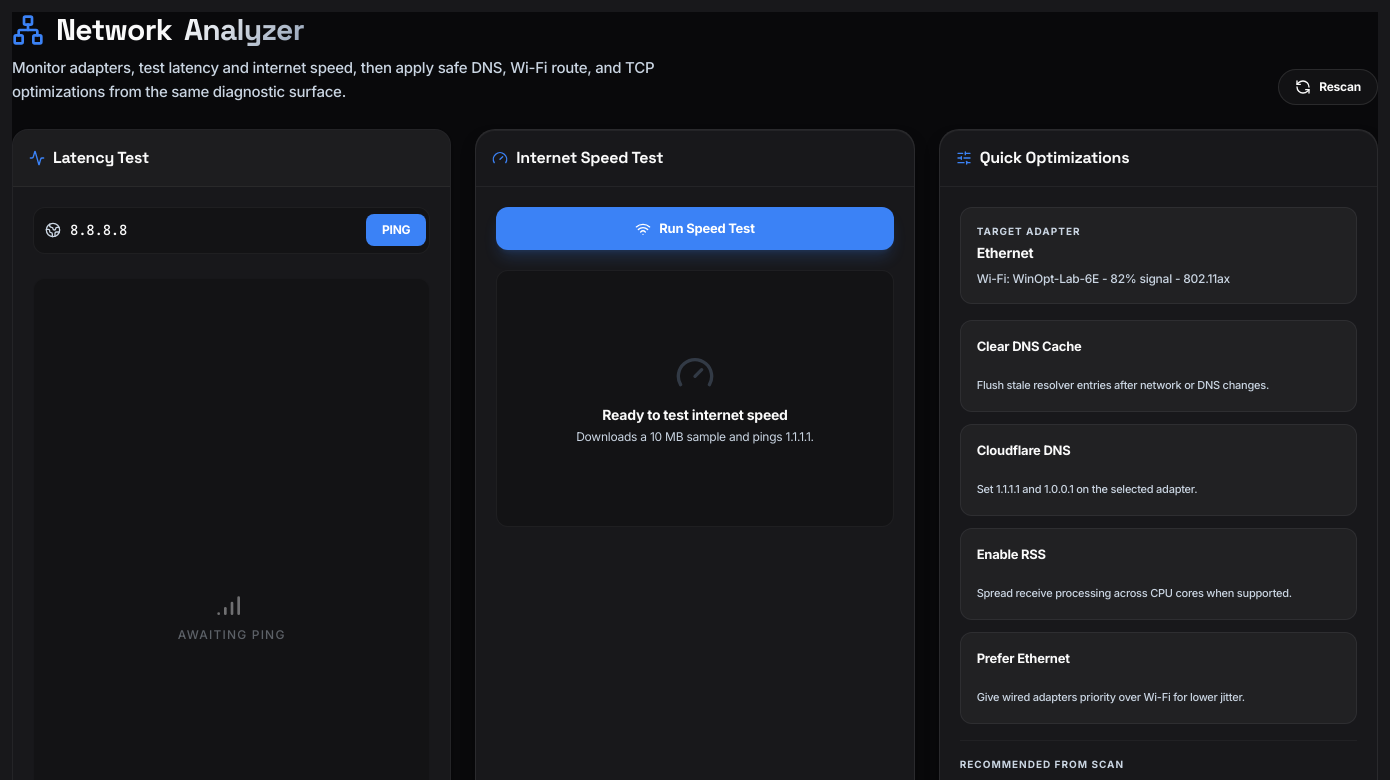
it: NetworkAnalyzerPage › runs an internet speed test and shows download speed
Expected: the heading "Internet Speed Test" is shown, [492, 147, 663, 168]
Click the button with test id "run-speed-test" at (695,229), box [496, 207, 894, 250]
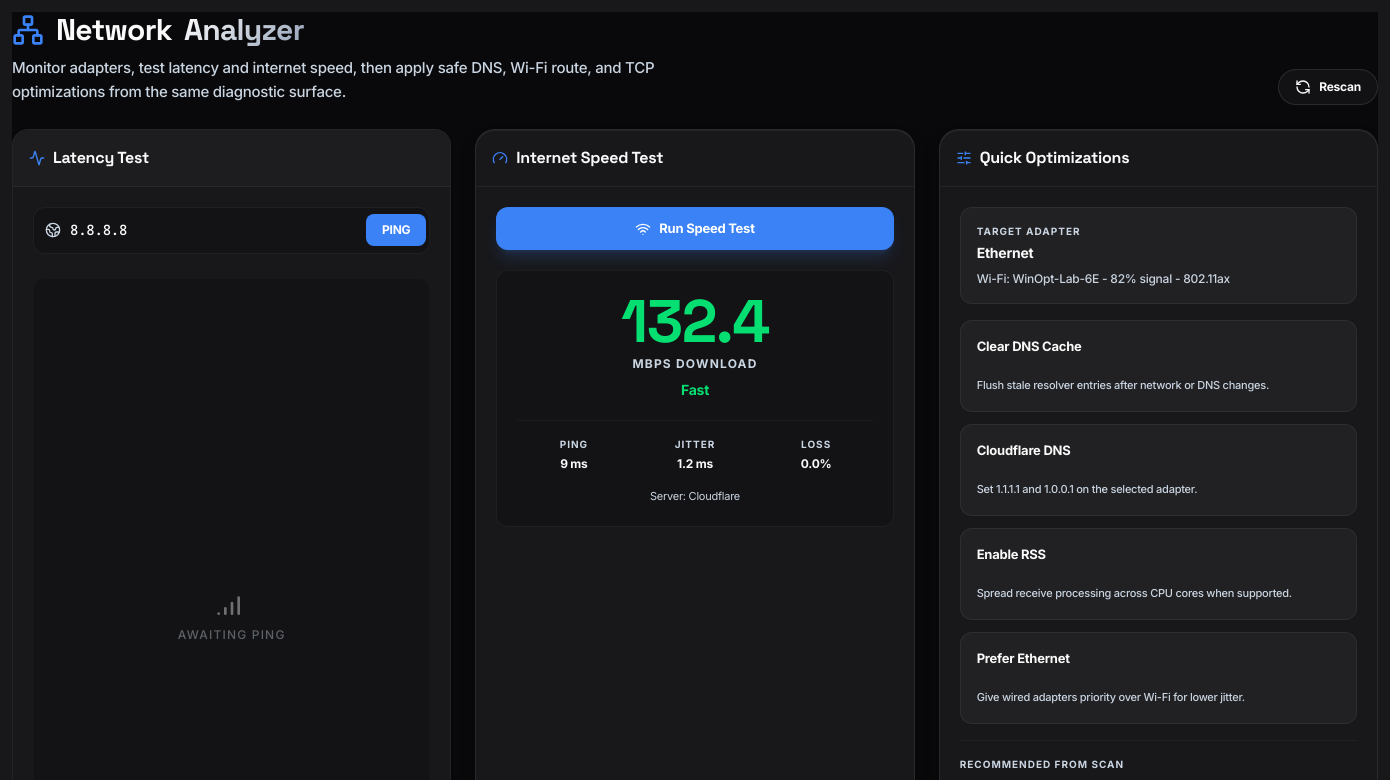
Result: the text with test id "speed-download-mbps" reads "132.4" at [621, 283, 769, 360]
